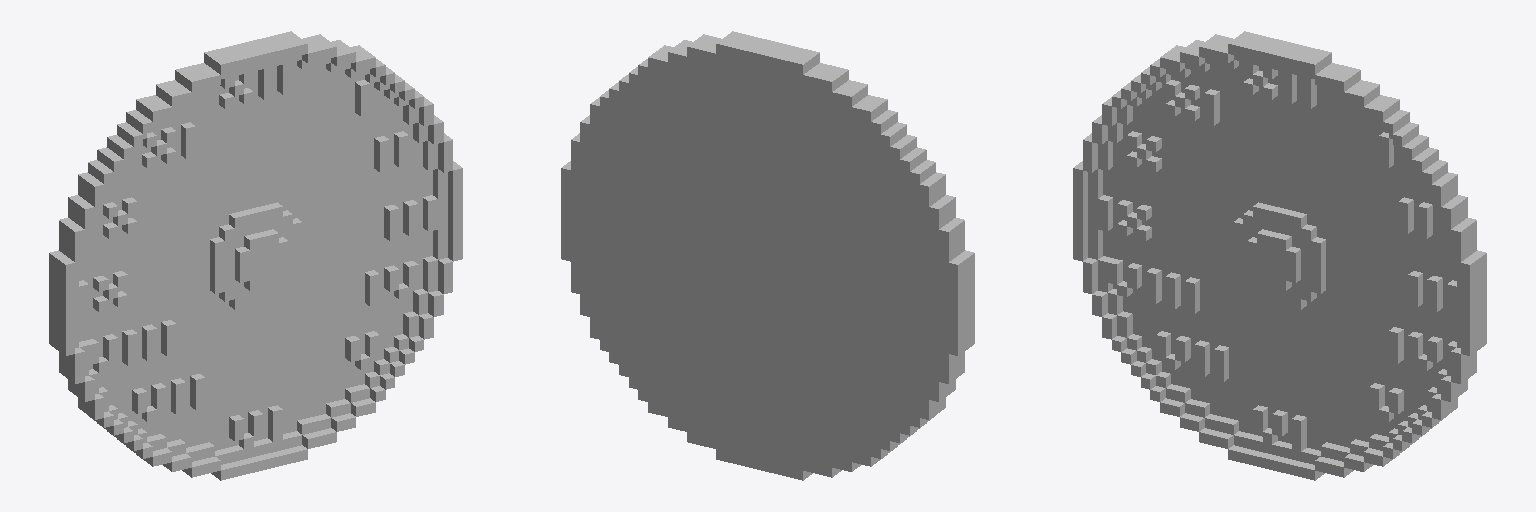
The model's file is clock.obj.
3 renders of one model, left to right at view 1: azimuth 30°, elevation 25°; view 2: azimuth 150°, elevation 25°; view 3: azimuth 330°, elevation 25°, orthographic.
Parts seen in each view (by area): view 1: object 1; view 2: object 1; view 3: object 1.
Boxes of the visible parts, x1,y1,x2,y2 form: object 1: [49, 31, 462, 480]; object 1: [561, 31, 974, 480]; object 1: [1073, 31, 1486, 480].
Size of the model in its own units: 4.1 by 4.1 by 0.3.